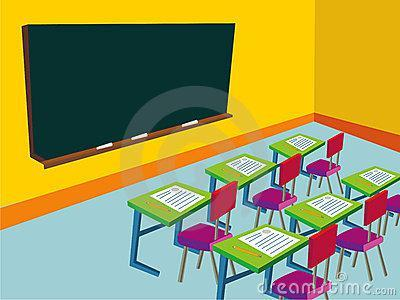chair: (178, 179, 239, 279), (274, 223, 338, 300), (339, 187, 389, 281), (249, 154, 303, 230), (302, 130, 346, 193)
